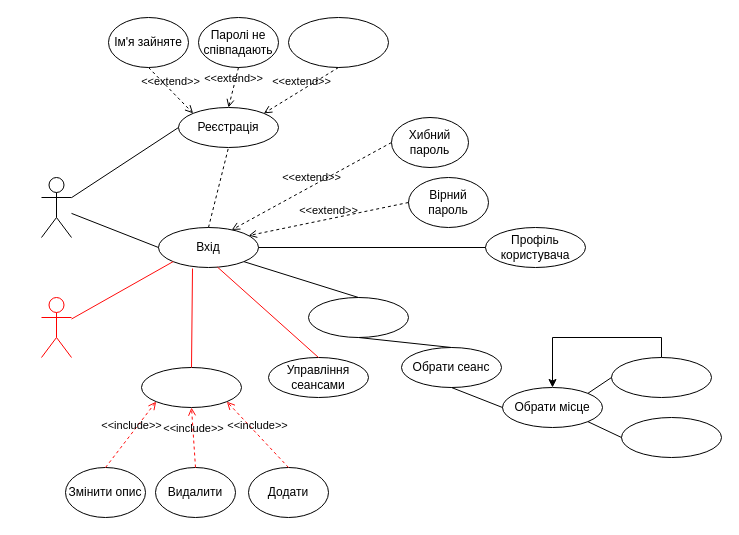
Image size: 739x535. Some labels were removed from this diagram. The shapes that lost their labels are listed below. From the top down, each one's box as (x1, y1, x2, y2) in pixels, then its label:
(288, 16, 388, 68): Email вже зареєстрований
(40, 176, 72, 238): Користувач
(40, 296, 72, 358): Адміністратор
(308, 296, 408, 338): Обрати фільм
(140, 366, 242, 408): Управління фільмами
(610, 356, 712, 398): Додати квиток
(620, 416, 722, 458): Оплатити
